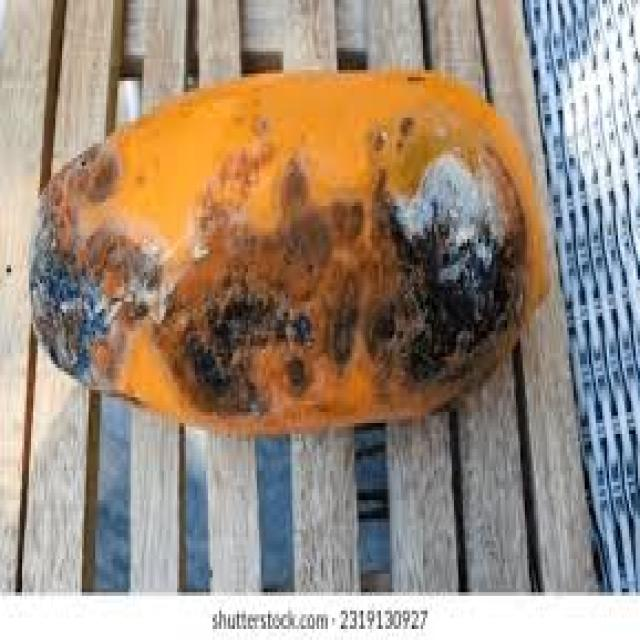Papaya: (34, 57, 543, 415)
